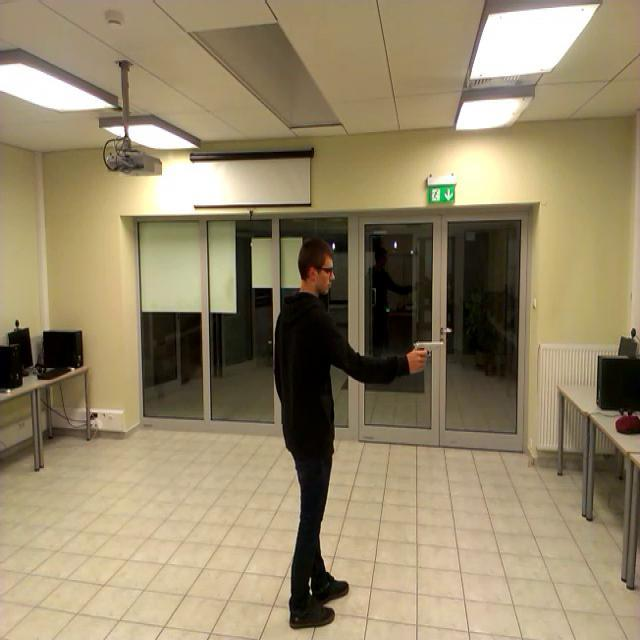Gun: (413, 341, 443, 368)
